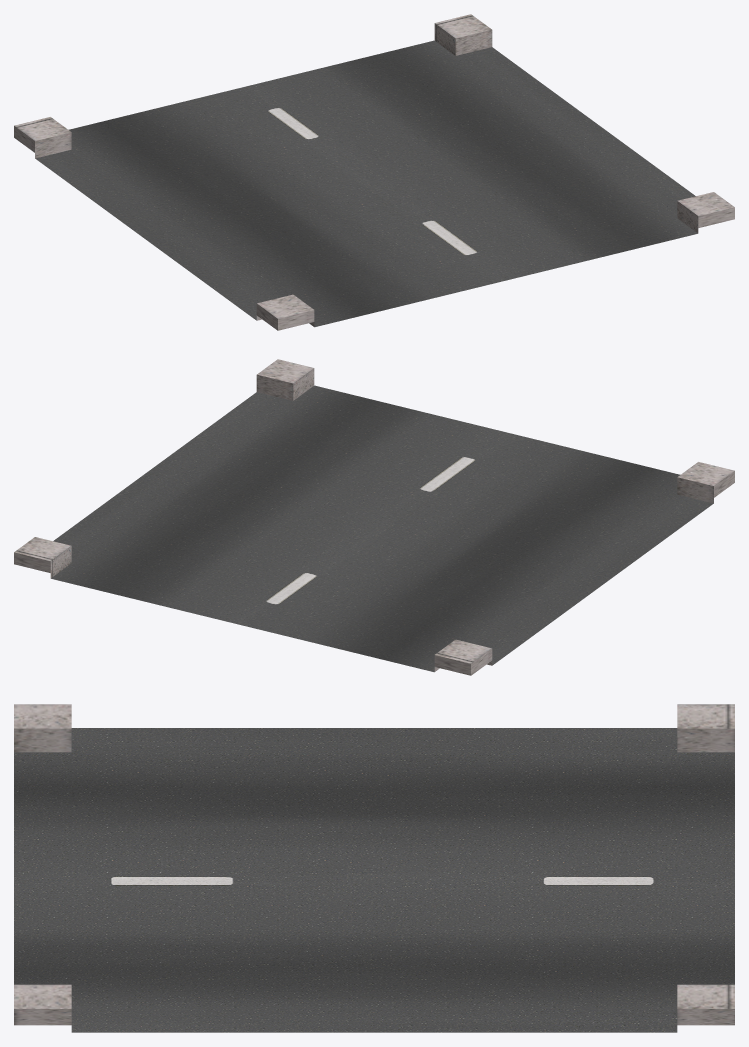
Rendered from road segment D.FBX.
3 views of the same model, one above another, from view 1: azimuth 30°, elevation 25°; view 2: azimuth 150°, elevation 25°; view 3: azimuth 270°, elevation 25° (orthographic). The views are drawn at different scales.
Parts seen in each view (by area): view 1: Box001; view 2: Box001; view 3: Box001.
Boxes of the visible parts, left/top/right/bottom form: Box001: left=14, top=14, right=734, bottom=330; Box001: left=14, top=359, right=734, bottom=675; Box001: left=14, top=704, right=734, bottom=1032.
Size of the model in its own units: 24 by 0.8736 by 24.
